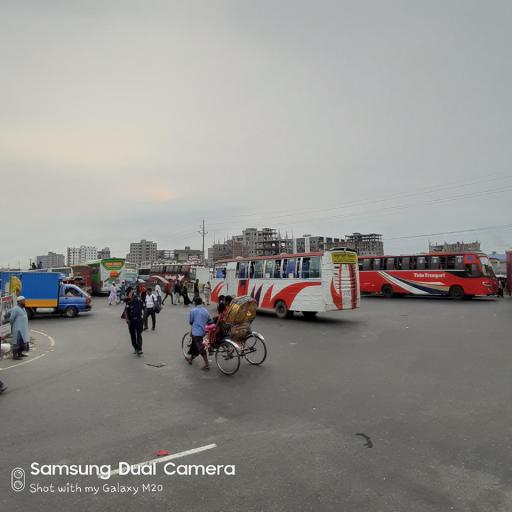bus: (210, 249, 361, 316), (359, 253, 500, 299), (91, 258, 126, 293), (150, 263, 208, 283), (74, 265, 93, 294), (125, 262, 139, 288), (139, 268, 150, 284)
pickup: (2, 272, 92, 318)
rickshaw: (182, 296, 267, 376)
